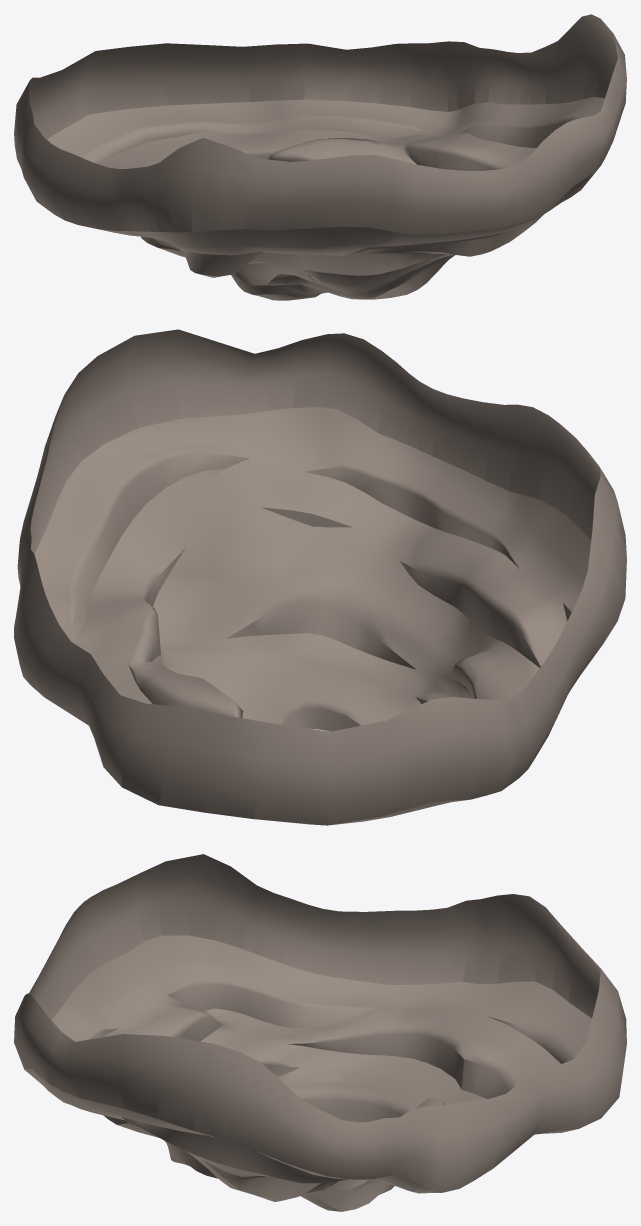
File: terrain_UV.fbx
The picture shows the model from 3 angles, top to bottom: view 1: azimuth 30°, elevation 25°; view 2: azimuth 150°, elevation 25°; view 3: azimuth 270°, elevation 25°; orthographic projection. The views are drawn at different scales.
Visible parts, largest first — view 1: pDisc1; view 2: pDisc1; view 3: pDisc1.
Part boxes in pixels (x1,y1,x2,y2): pDisc1: [14, 14, 626, 300]; pDisc1: [14, 329, 626, 825]; pDisc1: [14, 854, 626, 1211].
Size of the model in its own units: 44.07 by 21.42 by 46.26.
